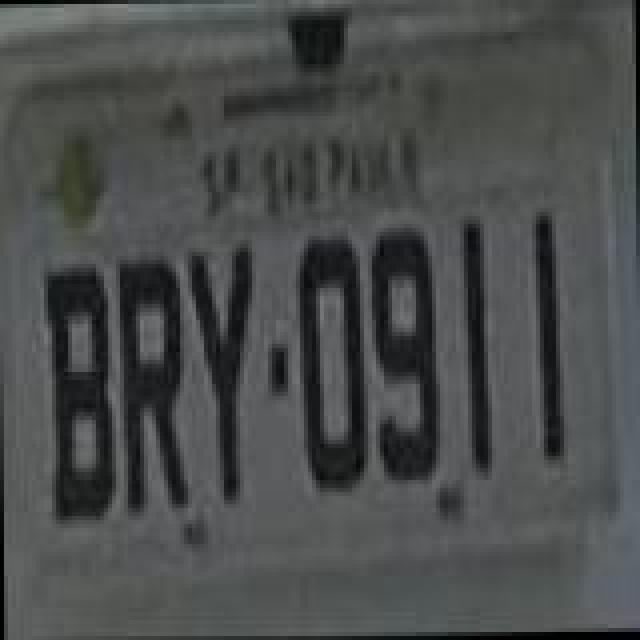1: (462, 214, 498, 482), (534, 202, 570, 470)
9: (366, 222, 442, 490)
B: (44, 262, 120, 530)
O: (294, 232, 370, 500)
R: (116, 254, 192, 518)
Y: (186, 240, 262, 512)
